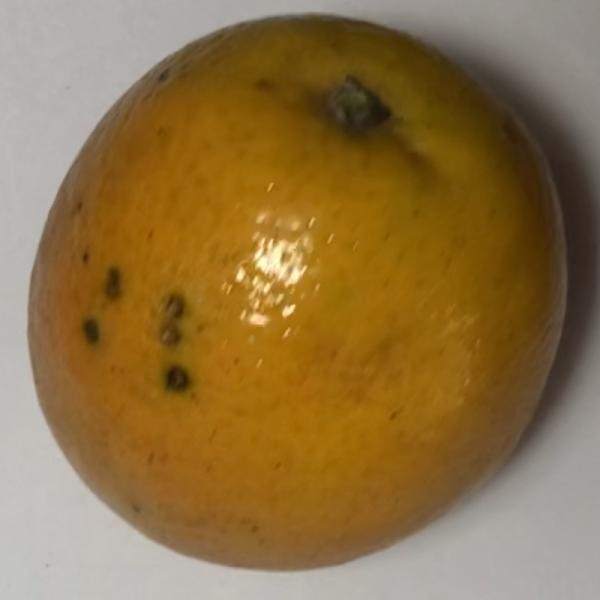Machas negras: (17, 0, 578, 573)
